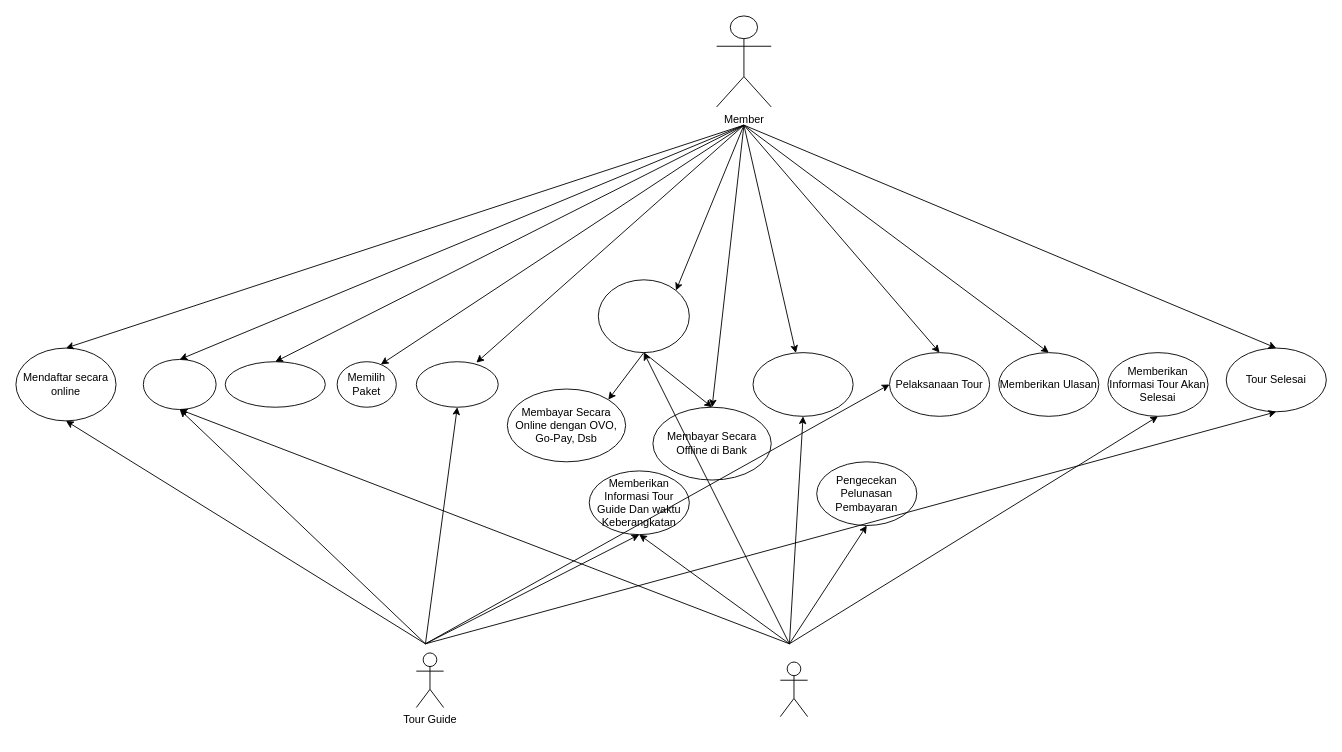
Some shapes in this 1342 by 752 pixel diagram are drawn without their labels. The shapes that lost their labels are listed below. From the top down, each one's centre as x and y in pixels, then its label:
point 643,316: Verifikasi Pemesanan Paket
point 179,384: Login
point 274,384: Membuka Menu Paket
point 456,384: Menyetujui Prasyarat yang berlaku
point 802,384: Verifikasi Pembayaran
point 793,689: Teknisi
